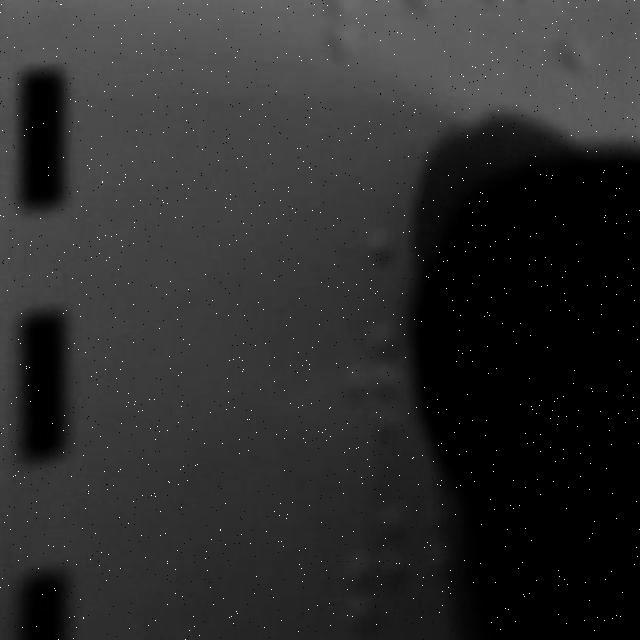S: (348, 498, 412, 640)
V: (347, 314, 408, 444)
